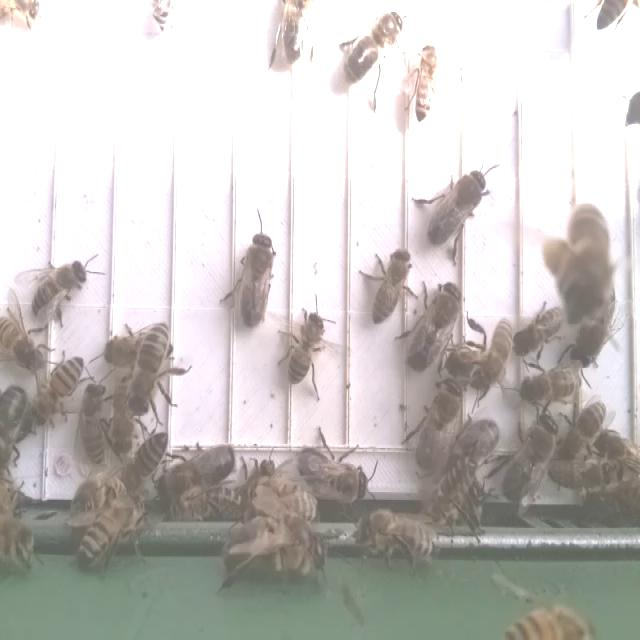Drone: (404, 274, 465, 376), (423, 164, 489, 253), (154, 438, 239, 507), (500, 410, 561, 506), (411, 371, 462, 481), (342, 5, 407, 90), (295, 444, 372, 505), (237, 228, 274, 333)
Worker: (127, 319, 171, 422), (30, 355, 87, 428), (469, 315, 518, 399), (366, 246, 414, 326), (33, 259, 89, 320), (518, 360, 582, 411), (287, 306, 325, 390), (121, 430, 170, 493), (514, 300, 569, 356), (78, 379, 110, 467), (410, 41, 443, 126), (0, 316, 44, 373)
